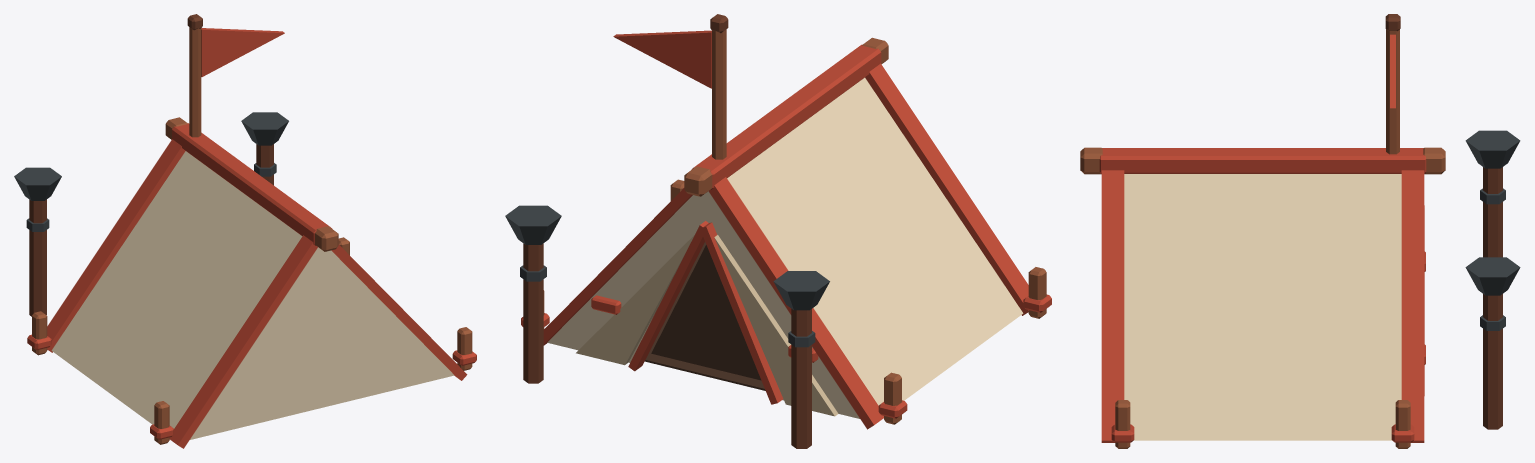
The model's file is camp.glb.
3 renders of one model, left to right at view 1: azimuth 30°, elevation 25°; view 2: azimuth 150°, elevation 25°; view 3: azimuth 270°, elevation 25°, orthographic. The views are drawn at different scales.
Visible parts, largest first — view 1: BWAR_G_camp__Canvasm1, BWAR_G_camp__BackGable, BWAR_G_camp__Trim, BWAR_G_camp__Flag, BWAR_G_camp__Torchm1Post, BWAR_G_camp__Stakes, BWAR_G_camp__FlagPole, BWAR_G_camp__Torchm1Bowl, BWAR_G_camp__Torch1Bowl, BWAR_G_camp__StakeTies, BWAR_G_camp__RidgeEnds, BWAR_G_camp__Canvas1 (+1 smaller); view 2: BWAR_G_camp__Canvasm1, BWAR_G_camp__Trim, BWAR_G_camp__DoorShadow, BWAR_G_camp__FrontGable1, BWAR_G_camp__DoorTrim, BWAR_G_camp__Flap1, BWAR_G_camp__Flapm1, BWAR_G_camp__FrontGablem1, BWAR_G_camp__Flag, BWAR_G_camp__Torch1Post, BWAR_G_camp__Torchm1Post, BWAR_G_camp__Canvas1 (+7 smaller); view 3: BWAR_G_camp__Canvas1, BWAR_G_camp__Trim, BWAR_G_camp__Torch1Post, BWAR_G_camp__Torchm1Post, BWAR_G_camp__Torchm1Bowl, BWAR_G_camp__Torch1Bowl, BWAR_G_camp__FlagPole, BWAR_G_camp__Stakes, BWAR_G_camp__RidgeEnds, BWAR_G_camp__StakeTies, BWAR_G_camp__Flag.
Part boxes in pixels (bbox=[...]): BWAR_G_camp__Canvasm1: bbox=[51, 151, 317, 439]; BWAR_G_camp__BackGable: bbox=[190, 248, 454, 439]; BWAR_G_camp__Trim: bbox=[47, 123, 467, 448]; BWAR_G_camp__Flag: bbox=[201, 28, 284, 76]; BWAR_G_camp__Torchm1Post: bbox=[29, 199, 46, 316]; BWAR_G_camp__Stakes: bbox=[32, 237, 472, 444]; BWAR_G_camp__FlagPole: bbox=[189, 27, 201, 137]; BWAR_G_camp__Torchm1Bowl: bbox=[14, 167, 61, 200]; BWAR_G_camp__Torch1Bowl: bbox=[241, 112, 288, 145]; BWAR_G_camp__StakeTies: bbox=[27, 334, 476, 439]; BWAR_G_camp__RidgeEnds: bbox=[165, 117, 338, 251]; BWAR_G_camp__Canvas1: bbox=[317, 247, 415, 336]; BWAR_G_camp__Canvasm1: bbox=[709, 77, 1023, 418]; BWAR_G_camp__Trim: bbox=[543, 44, 1028, 429]; BWAR_G_camp__DoorShadow: bbox=[651, 245, 761, 380]; BWAR_G_camp__FrontGable1: bbox=[547, 192, 708, 362]; BWAR_G_camp__DoorTrim: bbox=[628, 221, 783, 404]; BWAR_G_camp__Flap1: bbox=[576, 235, 694, 365]; BWAR_G_camp__Flapm1: bbox=[714, 235, 838, 416]; BWAR_G_camp__FrontGablem1: bbox=[709, 193, 859, 418]; BWAR_G_camp__Flag: bbox=[613, 30, 711, 88]; BWAR_G_camp__Torch1Post: bbox=[523, 243, 543, 383]; BWAR_G_camp__Torchm1Post: bbox=[791, 309, 811, 448]; BWAR_G_camp__Canvas1: bbox=[547, 191, 708, 345]; BWAR_G_camp__Canvas1: bbox=[1124, 174, 1401, 440]; BWAR_G_camp__Trim: bbox=[1099, 148, 1426, 442]; BWAR_G_camp__Torch1Post: bbox=[1483, 294, 1502, 429]; BWAR_G_camp__Torchm1Post: bbox=[1483, 167, 1502, 257]; BWAR_G_camp__Torchm1Bowl: bbox=[1465, 130, 1520, 168]; BWAR_G_camp__Torch1Bowl: bbox=[1465, 257, 1520, 295]; BWAR_G_camp__FlagPole: bbox=[1386, 29, 1399, 154]; BWAR_G_camp__Stakes: bbox=[1115, 400, 1410, 448]; BWAR_G_camp__RidgeEnds: bbox=[1080, 147, 1445, 174]; BWAR_G_camp__StakeTies: bbox=[1111, 424, 1414, 442]; BWAR_G_camp__Flag: bbox=[1390, 34, 1395, 108].
Size of the model in its own units: 0.845 by 0.7714 by 0.88.
